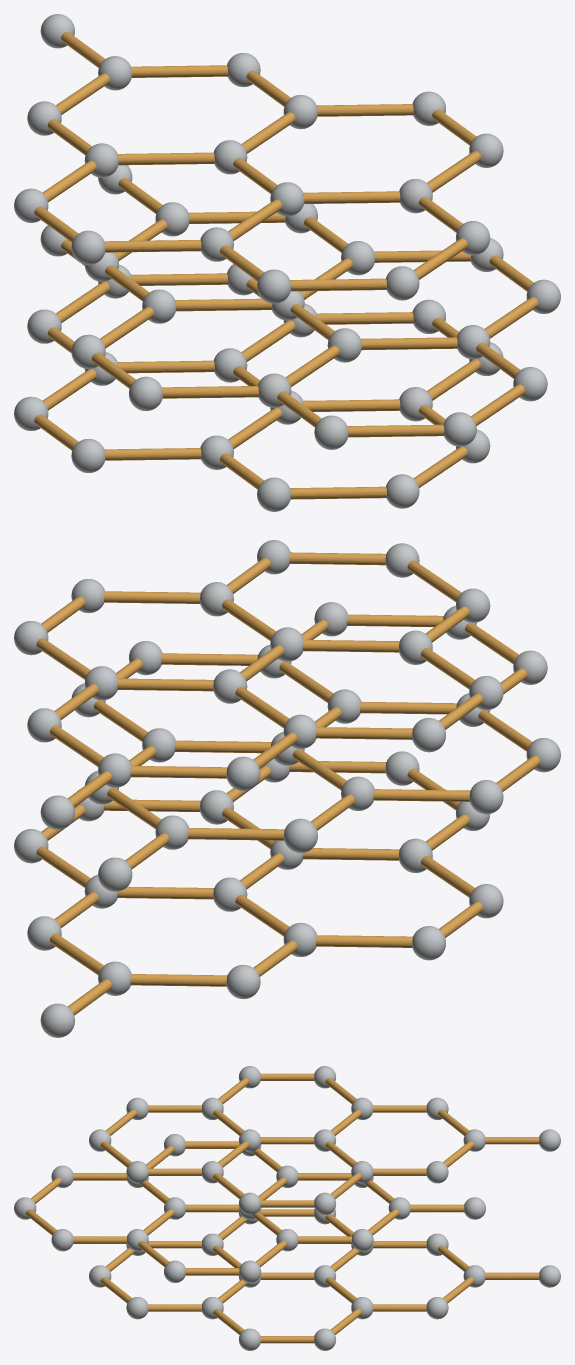
Rendered from graphite.glb.
3 views of the same model, one above another, from view 1: azimuth 30°, elevation 25°; view 2: azimuth 150°, elevation 25°; view 3: azimuth 270°, elevation 25° (orthographic). The views are drawn at different scales.
Visible parts, largest first — view 1: Mesh_Mesh_head_geo.001_lambert2SG.001_0; view 2: Mesh_Mesh_head_geo.001_lambert2SG.001_0; view 3: Mesh_Mesh_head_geo.001_lambert2SG.001_0.
Boxes of the visible parts, x1,y1,x2,y2 form: Mesh_Mesh_head_geo.001_lambert2SG.001_0: (14, 14, 560, 511); Mesh_Mesh_head_geo.001_lambert2SG.001_0: (14, 540, 560, 1037); Mesh_Mesh_head_geo.001_lambert2SG.001_0: (14, 1066, 560, 1350).
Bounding box in the file's own units: 86 × 46 × 146.
